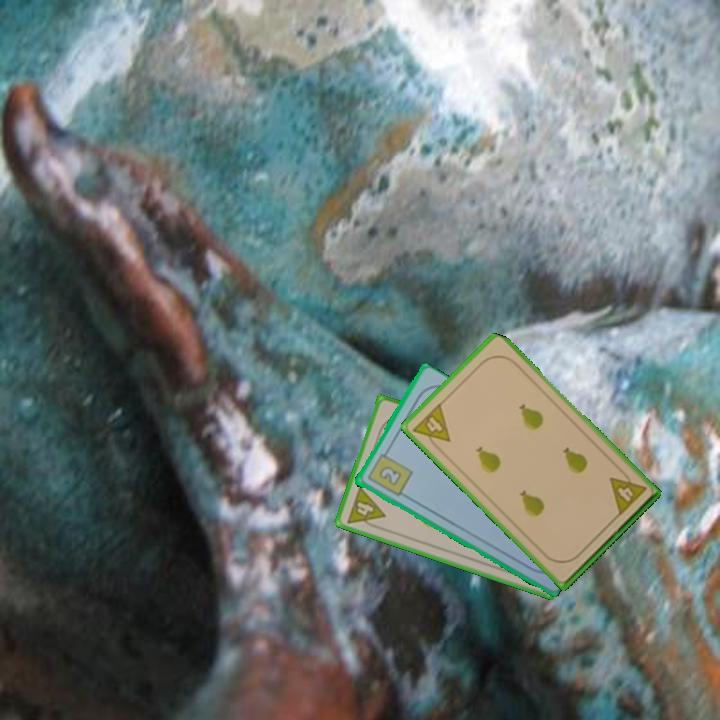2b: (363, 446, 415, 499)
4p: (409, 399, 453, 454), (606, 465, 649, 519), (343, 483, 388, 533)
